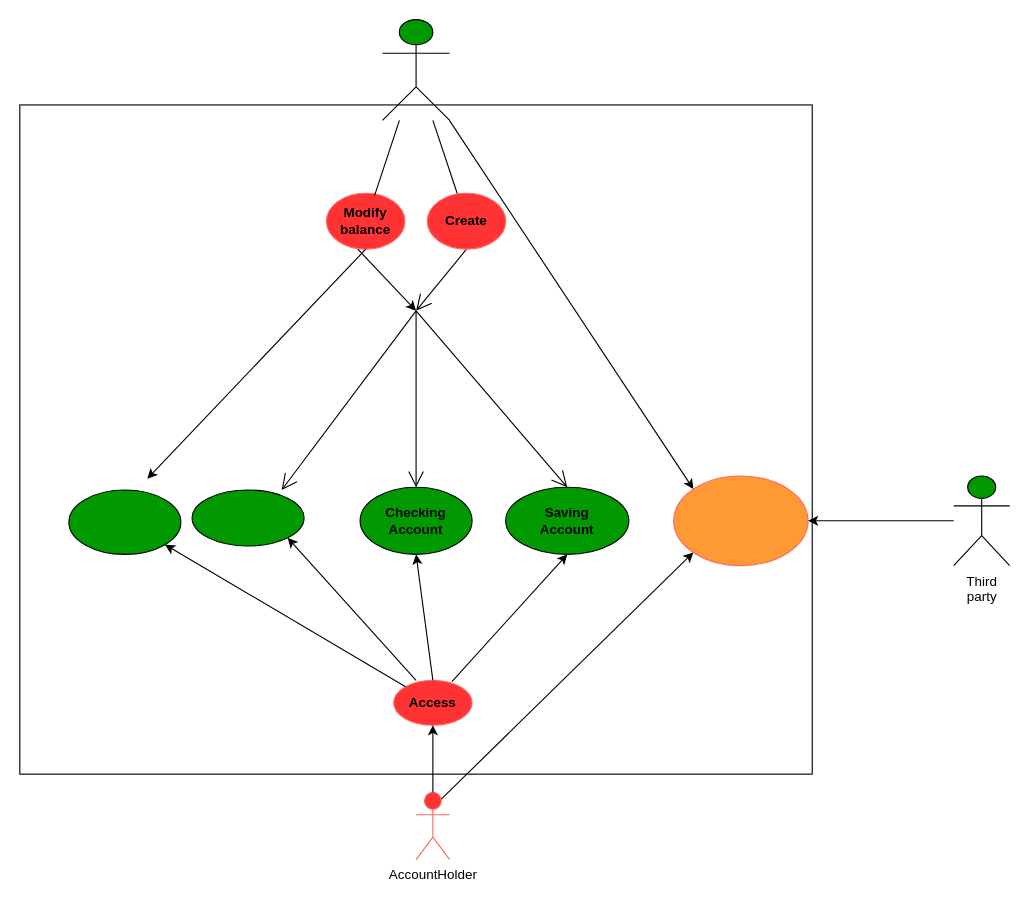
This 1029x903 diagram has some shape labels left out. Each missing label, with the centre of its shape:
Admin: point (415, 69)
Credit Card: point (247, 517)
Student Account: point (124, 521)
Transfer Money: point (740, 520)
